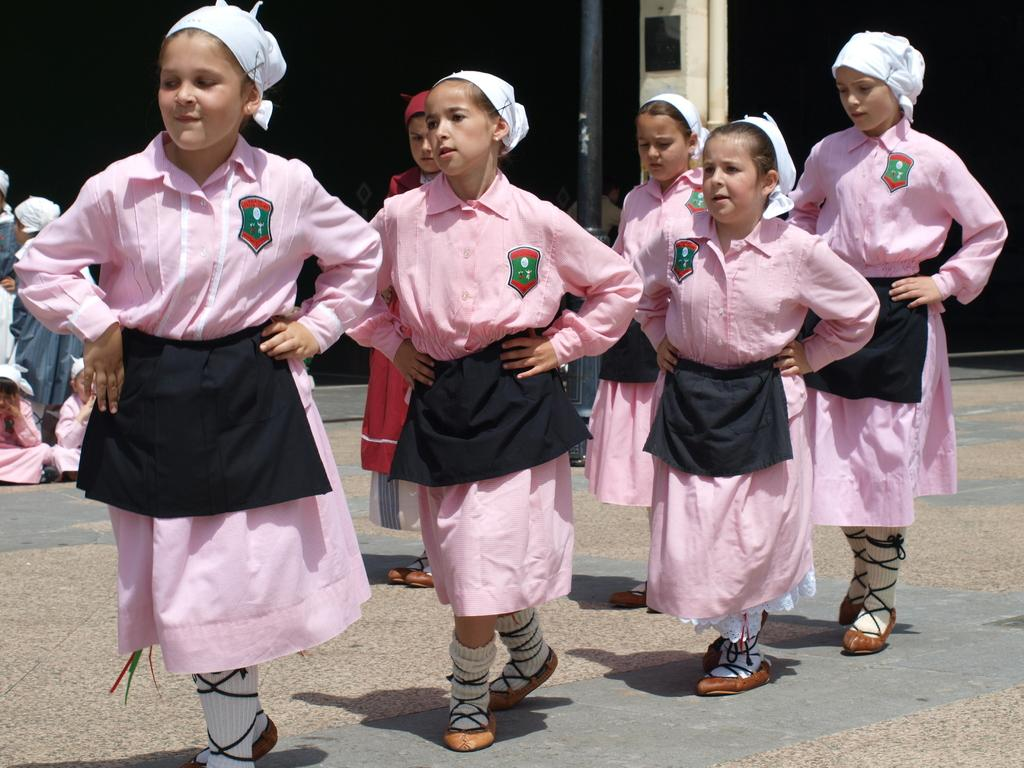Pessoa: (17, 0, 379, 767), (350, 71, 639, 750), (634, 117, 877, 694), (791, 32, 1006, 653), (585, 320, 658, 515), (360, 348, 419, 530), (11, 298, 82, 441), (0, 363, 59, 483), (53, 358, 94, 480), (0, 170, 19, 363), (600, 177, 623, 238)
